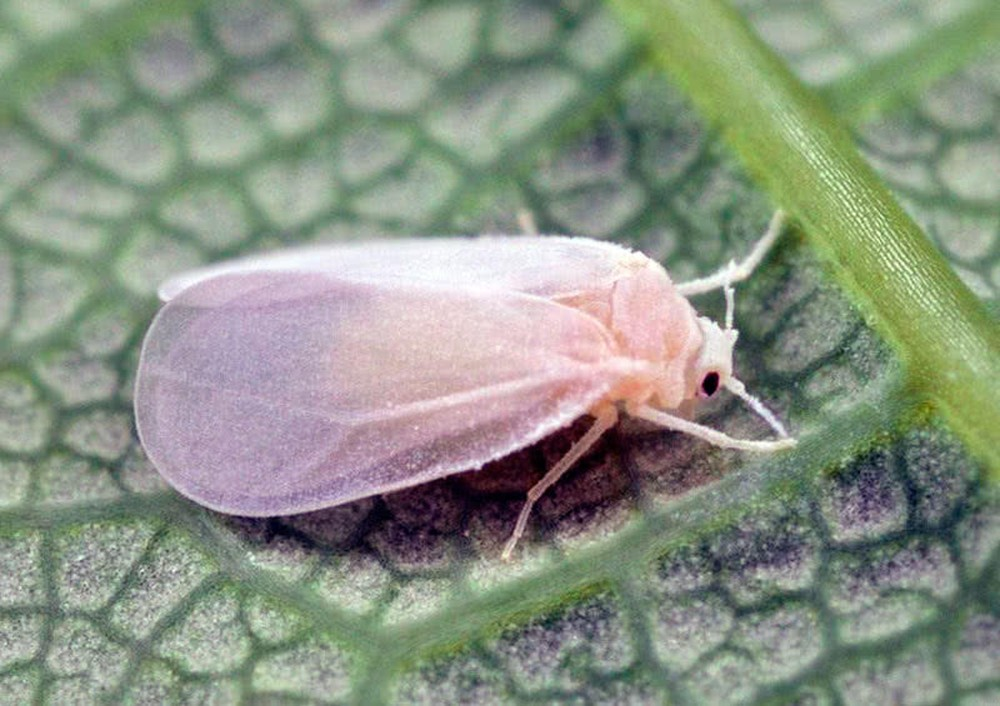Mosca Blanca: (123, 185, 844, 547)
